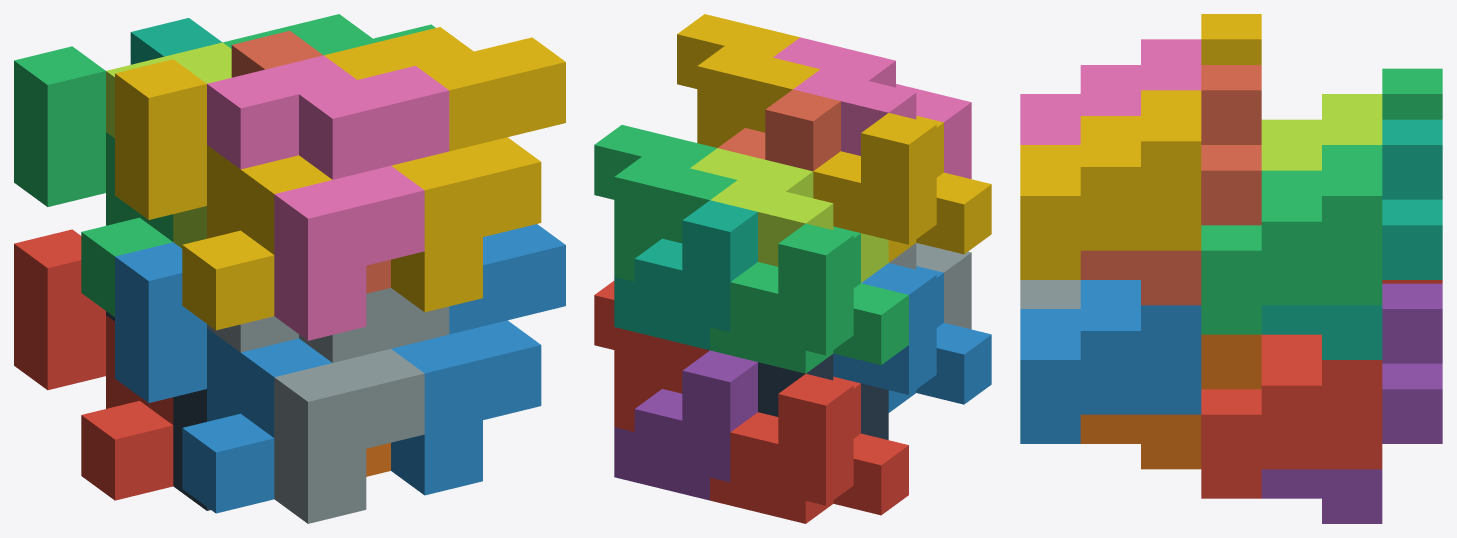
File: tiling.obj
3 views of the same model, side by side, from view 1: azimuth 30°, elevation 25°; view 2: azimuth 150°, elevation 25°; view 3: azimuth 270°, elevation 25° (orthographic). The views are drawn at different scales.
Parts seen in each view (by area): view 1: copy_2_domain_4, copy_2_domain_8, copy_1_domain_4, copy_1_domain_2, copy_2_domain_2, copy_2_domain_6, copy_1_domain_1, copy_1_domain_3, copy_2_domain_3, copy_1_domain_8, copy_2_domain_7, copy_1_domain_7 (+2 smaller); view 2: copy_1_domain_1, copy_1_domain_3, copy_1_domain_4, copy_1_domain_5, copy_1_domain_7, copy_2_domain_7, copy_2_domain_8, copy_1_domain_2, copy_2_domain_4, copy_2_domain_3, copy_2_domain_5, copy_1_domain_8 (+2 smaller); view 3: copy_2_domain_8, copy_2_domain_7, copy_2_domain_6, copy_2_domain_5, copy_1_domain_8, copy_1_domain_5, copy_1_domain_7, copy_2_domain_4, copy_1_domain_6, copy_2_domain_3, copy_1_domain_3, copy_1_domain_4 (+1 smaller).
Part boxes in pixels (<box>): copy_2_domain_4: <box>207,55,449,340</box>; copy_2_domain_8: <box>324,27,565,312</box>; copy_1_domain_4: <box>115,59,332,330</box>; copy_1_domain_2: <box>115,242,331,513</box>; copy_2_domain_2: <box>207,288,449,523</box>; copy_2_domain_6: <box>391,224,565,495</box>; copy_1_domain_1: <box>14,229,173,500</box>; copy_1_domain_3: <box>14,46,173,317</box>; copy_2_domain_3: <box>106,42,231,248</box>; copy_1_domain_8: <box>231,31,390,293</box>; copy_2_domain_7: <box>223,14,435,55</box>; copy_1_domain_7: <box>130,18,222,64</box>; copy_1_domain_1: <box>710,374,908,523</box>; copy_1_domain_3: <box>710,223,908,373</box>; copy_1_domain_4: <box>813,113,991,262</box>; copy_1_domain_5: <box>614,350,757,500</box>; copy_1_domain_7: <box>614,200,757,350</box>; copy_2_domain_7: <box>594,125,737,281</box>; copy_2_domain_8: <box>677,14,820,147</box>; copy_1_domain_2: <box>833,263,991,412</box>; copy_2_domain_4: <box>773,37,971,178</box>; copy_2_domain_3: <box>690,148,888,282</box>; copy_2_domain_5: <box>594,281,709,431</box>; copy_1_domain_8: <box>718,89,840,171</box>; copy_2_domain_8: <box>1020,90,1201,279</box>; copy_2_domain_7: <box>1201,145,1382,334</box>; copy_2_domain_6: <box>1020,280,1201,443</box>; copy_2_domain_5: <box>1201,334,1382,498</box>; copy_1_domain_8: <box>1080,65,1261,305</box>; copy_1_domain_5: <box>1261,283,1442,523</box>; copy_1_domain_7: <box>1261,119,1442,359</box>; copy_2_domain_4: <box>1020,39,1201,144</box>; copy_1_domain_6: <box>1080,334,1261,469</box>; copy_2_domain_3: <box>1261,94,1382,170</box>; copy_1_domain_3: <box>1382,68,1442,119</box>; copy_1_domain_4: <box>1201,14,1261,64</box>.
Size of the model in its own units: 6 by 7 by 7.
